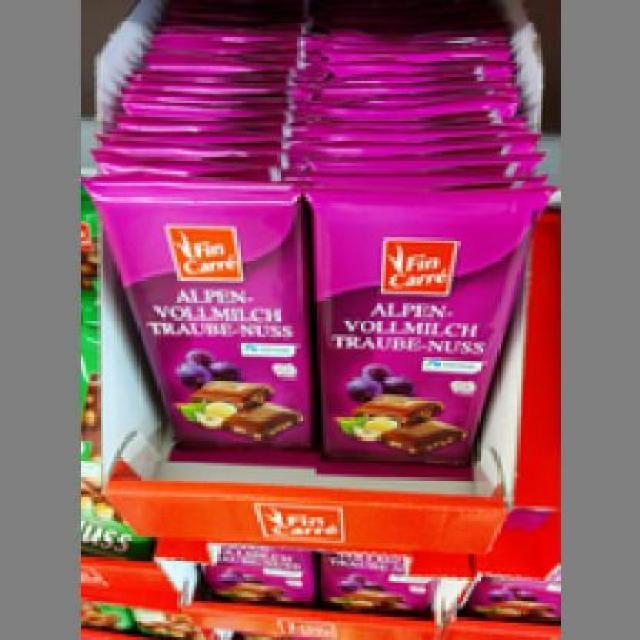Chocolate: (89, 168, 318, 466), (306, 177, 514, 474)
